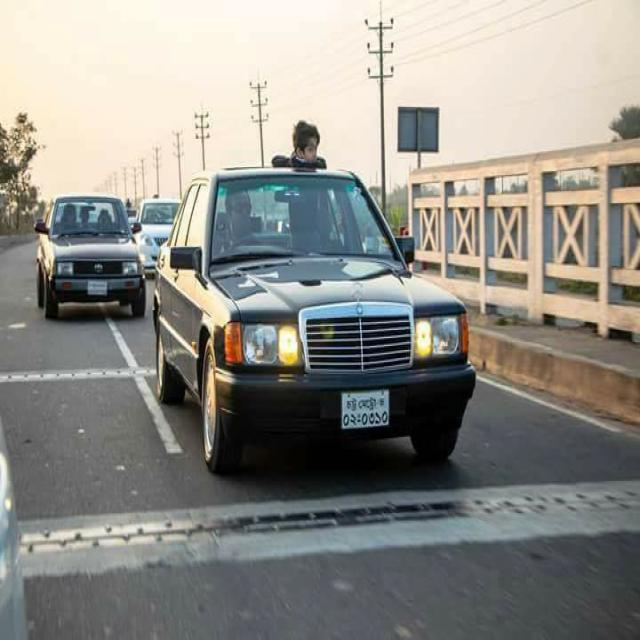numberplate: (340, 388, 390, 430), (86, 275, 110, 298)
